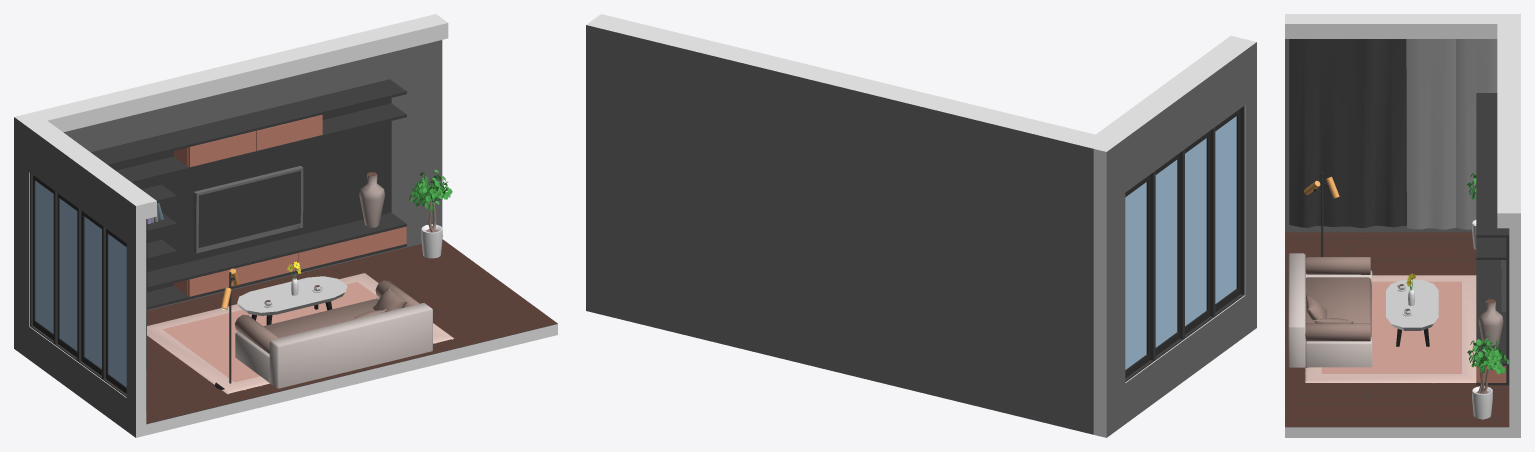
File: room_12.glb
The picture shows the model from 3 angles, left to right: view 1: azimuth 30°, elevation 25°; view 2: azimuth 150°, elevation 25°; view 3: azimuth 270°, elevation 25°; orthographic projection. The views are drawn at different scales.
Visible parts, largest first — view 1: tv_wall_009.001, Walls_046.008, window_030.001, sofa_004.002, floor_004.001, Walls_003.047, carpet_007.002, electronics_034.007, Walls_011.016, floor_004.002, Walls_046.012, Walls_046.010 (+7 smaller); view 2: Walls_046.008, window_030.001, Walls_046.009, Walls_046.012, Walls_046.011, Walls_003.047, Walls_046.010, Walls_003.048; view 3: Curtains_028.002, Curtains_023.010, carpet_007.002, floor_004.001, sofa_004.002, tv_wall_009.001, floor_004.002, Walls_046.008, Walls_003.048, Walls_011.016, Walls_003.047, coffee_table_007.002 (+8 smaller).
Boxes of the visible parts, <box> form: tv_wall_009.001: <box>91,79,406,309</box>; Walls_046.008: <box>25,14,442,310</box>; window_030.001: <box>30,173,126,396</box>; sofa_004.002: <box>235,280,432,388</box>; floor_004.001: <box>235,239,557,373</box>; Walls_003.047: <box>31,18,448,132</box>; carpet_007.002: <box>147,273,453,394</box>; electronics_034.007: <box>193,166,303,253</box>; Walls_011.016: <box>146,247,557,435</box>; floor_004.002: <box>146,289,349,423</box>; Walls_046.012: <box>29,125,136,243</box>; Walls_046.010: <box>126,197,146,437</box>; Walls_046.008: <box>586,19,1100,434</box>; window_030.001: <box>1125,105,1244,382</box>; Walls_046.009: <box>1093,135,1125,437</box>; Walls_046.012: <box>1113,47,1245,192</box>; Walls_046.011: <box>1125,295,1245,423</box>; Walls_003.047: <box>594,14,1108,143</box>; Walls_046.010: <box>1233,39,1256,335</box>; Walls_003.048: <box>1096,35,1243,137</box>; Curtains_028.002: <box>1289,39,1406,227</box>; Curtains_023.010: <box>1406,39,1497,229</box>; carpet_007.002: <box>1304,275,1476,383</box>; floor_004.001: <box>1285,329,1509,426</box>; sofa_004.002: <box>1288,253,1372,367</box>; tv_wall_009.001: <box>1476,93,1509,385</box>; floor_004.002: <box>1285,232,1476,328</box>; Walls_046.008: <box>1509,19,1520,437</box>; Walls_003.048: <box>1285,19,1497,38</box>; Walls_011.016: <box>1285,233,1509,437</box>; Walls_003.047: <box>1497,19,1509,228</box>; coffee_table_007.002: <box>1386,280,1438,346</box>.
Size of the model in its own units: 8 by 4.2 by 4.
Materials: 1 (1 with a texture image).
